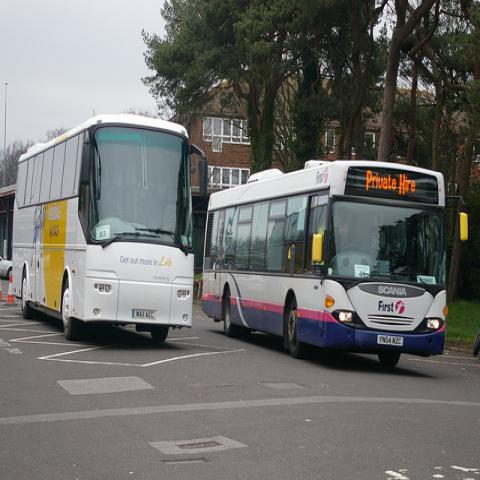bus: (200, 159, 469, 372), (14, 118, 193, 350)
car: (0, 256, 12, 280)
